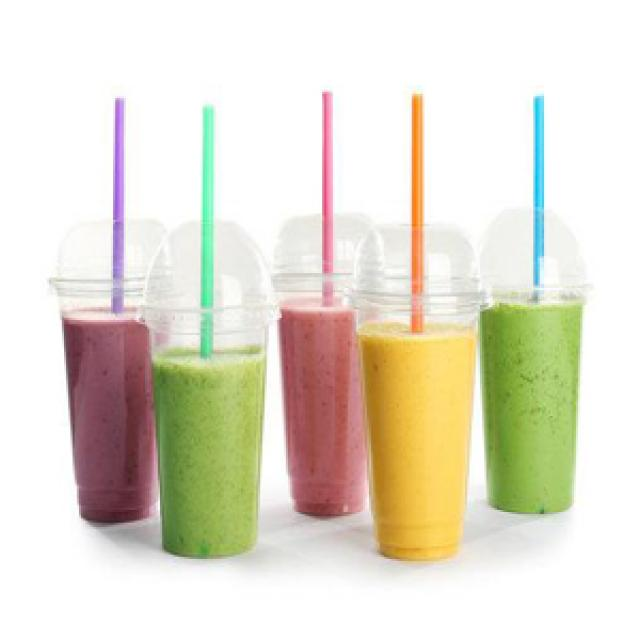plastic cup: (341, 218, 495, 568), (134, 214, 286, 564), (47, 213, 188, 529), (474, 198, 593, 520), (267, 207, 373, 523)
